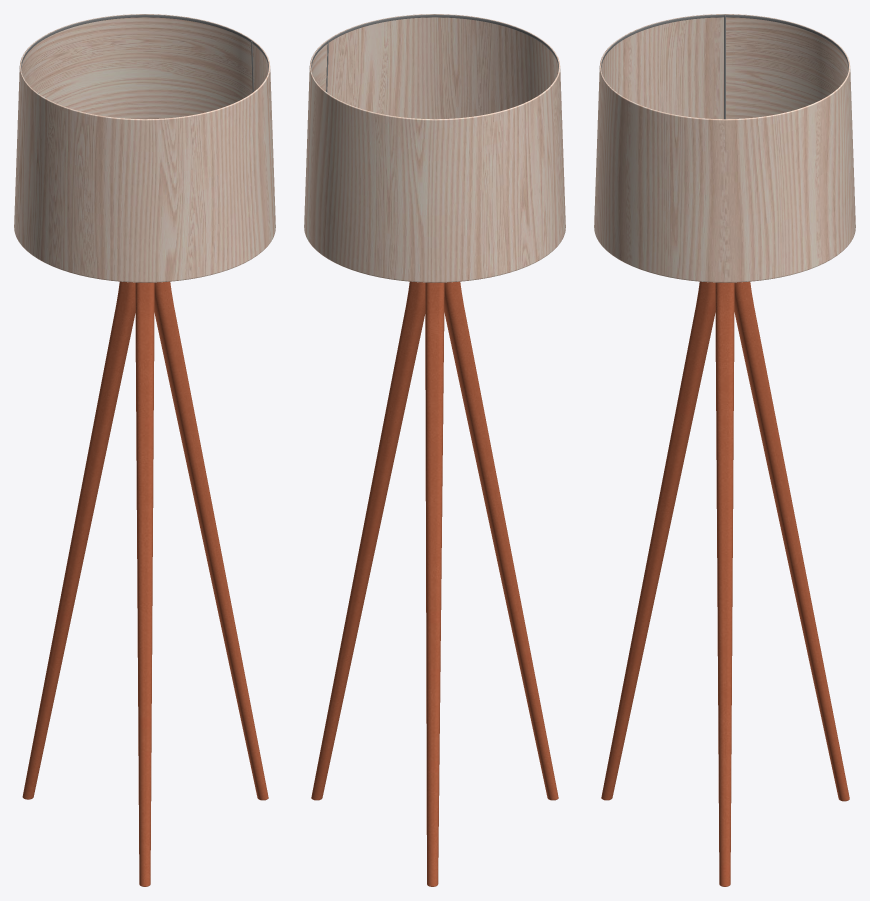
Rendered from lamp.gltf.
3 views of the same model, side by side, from view 1: azimuth 30°, elevation 25°; view 2: azimuth 150°, elevation 25°; view 3: azimuth 270°, elevation 25° (orthographic).
Parts seen in each view (by area): view 1: cover_mesh_n3d, leg_003_mesh_n3d, leg_001_mesh_n3d, leg_002_mesh_n3d, frame_mesh_n3d; view 2: cover_mesh_n3d, leg_002_mesh_n3d, leg_001_mesh_n3d, leg_003_mesh_n3d, frame_mesh_n3d; view 3: cover_mesh_n3d, leg_001_mesh_n3d, leg_002_mesh_n3d, leg_003_mesh_n3d, frame_mesh_n3d.
Part boxes in pixels (x1=…): cover_mesh_n3d: x1=14, y1=14, x2=275, y2=282; leg_003_mesh_n3d: x1=135, y1=282, x2=154, y2=886; leg_001_mesh_n3d: x1=154, y1=281, x2=268, y2=800; leg_002_mesh_n3d: x1=22, y1=281, x2=135, y2=799; frame_mesh_n3d: x1=21, y1=14, x2=268, y2=93; cover_mesh_n3d: x1=304, y1=14, x2=565, y2=282; leg_002_mesh_n3d: x1=425, y1=282, x2=444, y2=886; leg_001_mesh_n3d: x1=311, y1=281, x2=425, y2=800; leg_003_mesh_n3d: x1=444, y1=281, x2=558, y2=800; frame_mesh_n3d: x1=311, y1=14, x2=558, y2=93; cover_mesh_n3d: x1=594, y1=14, x2=855, y2=282; leg_001_mesh_n3d: x1=715, y1=282, x2=734, y2=886; leg_002_mesh_n3d: x1=734, y1=281, x2=849, y2=801; leg_003_mesh_n3d: x1=601, y1=281, x2=715, y2=800; frame_mesh_n3d: x1=601, y1=14, x2=848, y2=119.
Bounding box in the file's own units: 0.6517 × 2 × 0.6253.
Materials: 6 (2 with a texture image).
